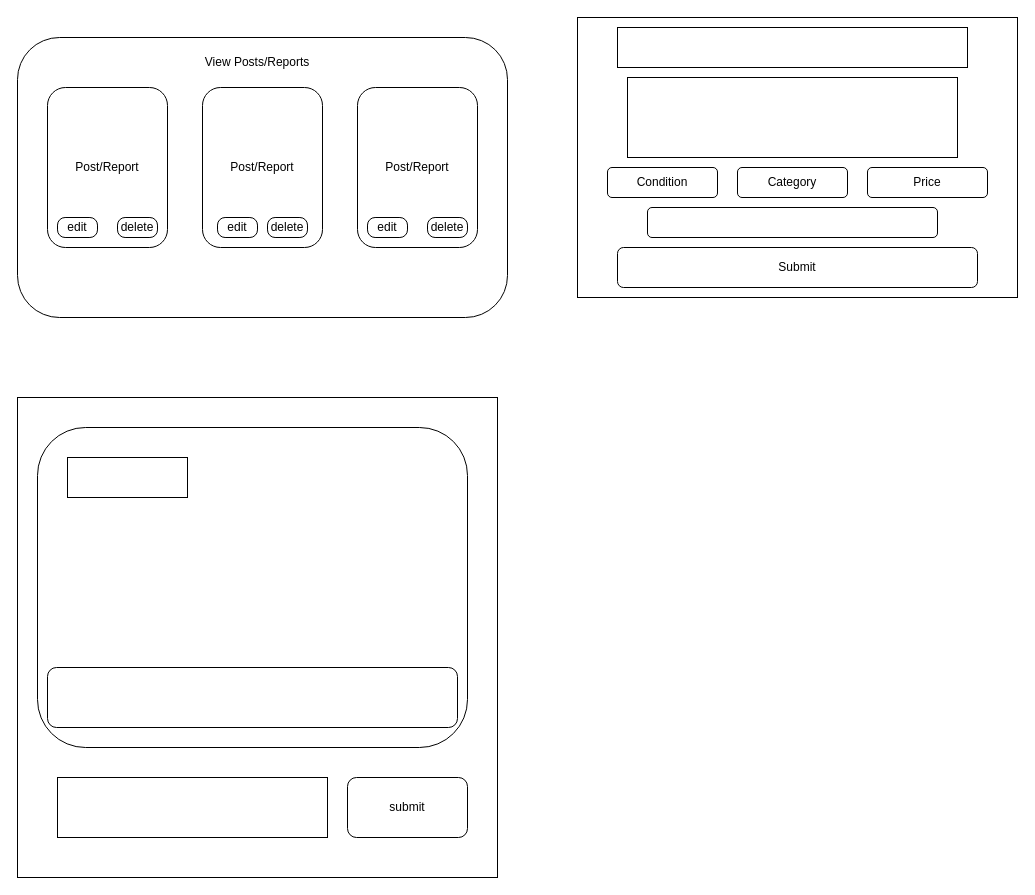
This 1035x895 diagram has some shape labels left out. Here are the shapes that lost their labels. From the top down, the box of each, then its label:
(616, 26, 968, 68): Title
(626, 76, 958, 158): Description
(646, 206, 938, 238): Upload
(66, 456, 188, 498): Message
(46, 666, 458, 728): Request to Buy
(56, 776, 328, 838): Input text
